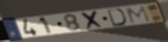1: (38, 16, 54, 35)
4: (23, 17, 39, 37)
8: (63, 13, 81, 32)
D: (106, 8, 128, 27)
M: (125, 5, 152, 25)
X: (80, 9, 107, 30)
